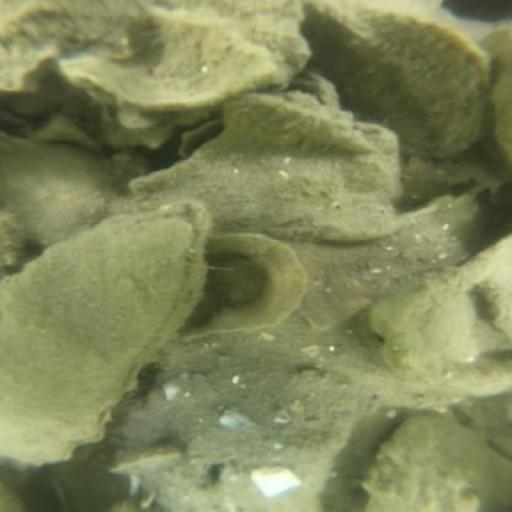Oyster-Closed: (124, 99, 398, 244), (114, 368, 374, 512), (312, 5, 491, 155), (362, 417, 512, 512), (1, 2, 159, 91), (1, 137, 109, 245), (225, 91, 377, 153)
Oyster-Open: (2, 202, 216, 460)
